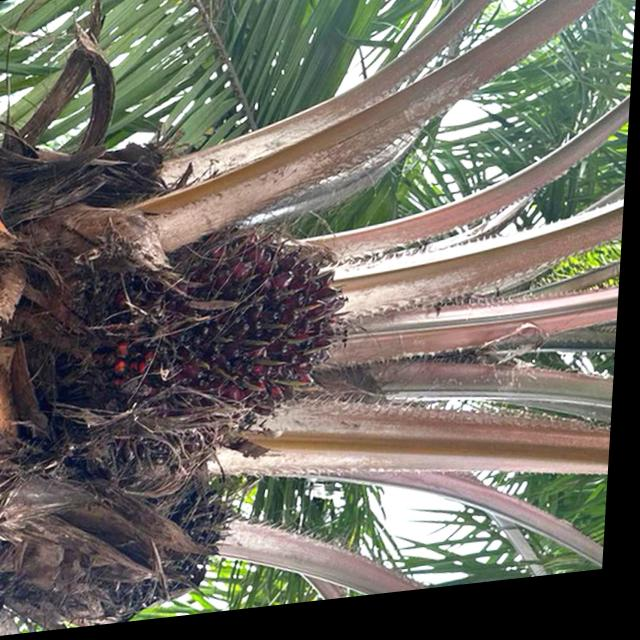ripe: (86, 201, 373, 467)
